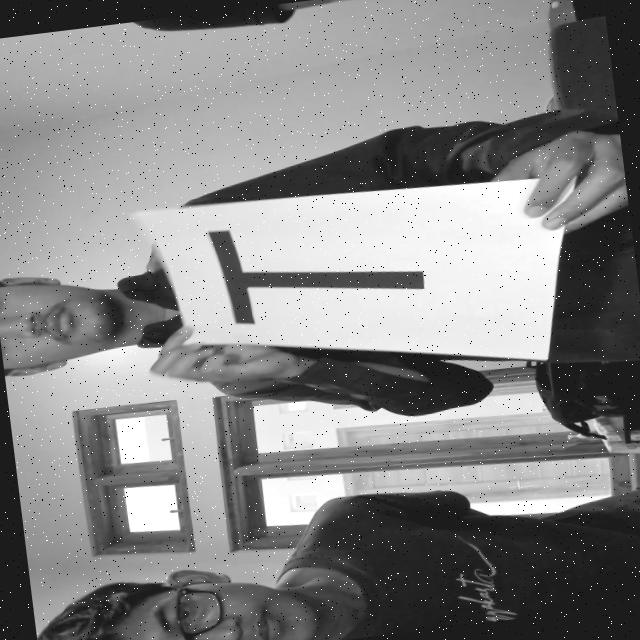t: (188, 177, 441, 340)
